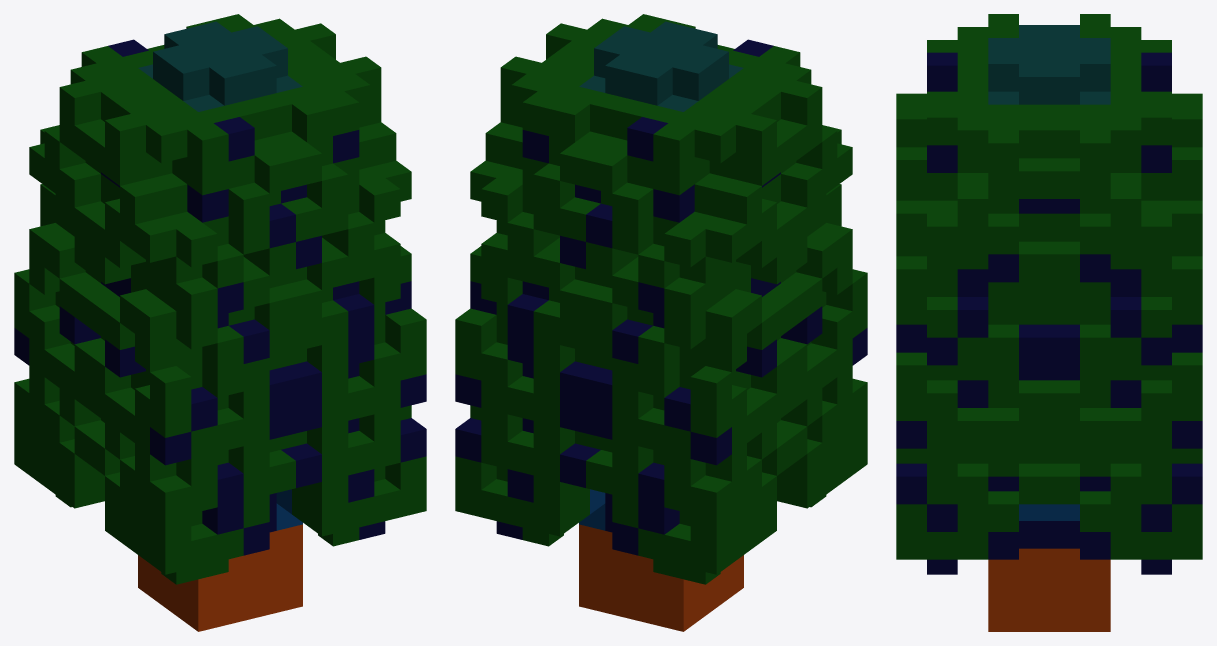
Rendered from bigtree.obj.
3 renders of one model, left to right at view 1: azimuth 30°, elevation 25°; view 2: azimuth 150°, elevation 25°; view 3: azimuth 270°, elevation 25°, orthographic.
Bounding box in the file's own units: 10 × 20 × 10.
Materials: 1 (1 with a texture image).
